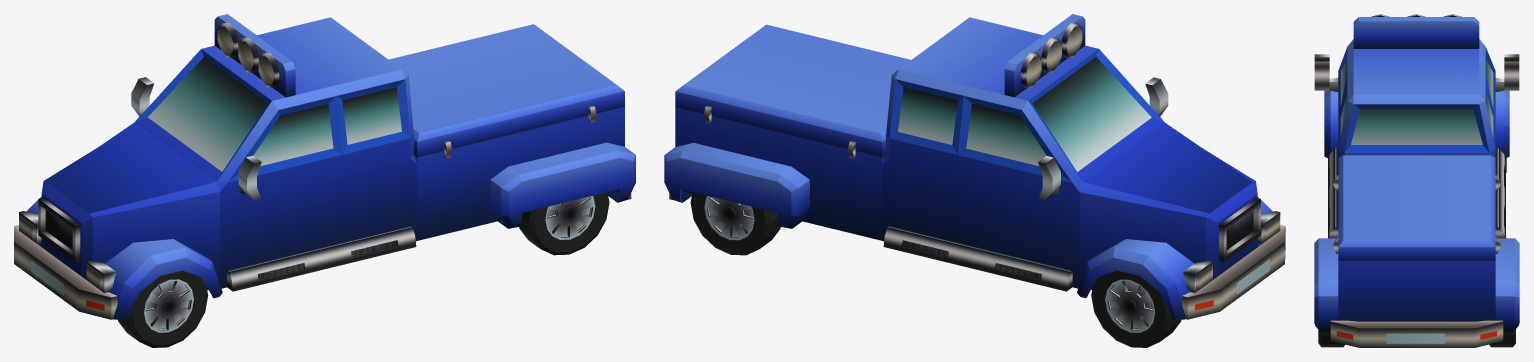
File: Car_11.fbx
3 views of the same model, side by side, from view 1: azimuth 30°, elevation 25°; view 2: azimuth 150°, elevation 25°; view 3: azimuth 270°, elevation 25° (orthographic). The views are drawn at different scales.
Visible parts, largest first — view 1: Car_11, Car_11_wheel_00, Car_11_wheel_01; view 2: Car_11, Car_11_wheel_03, Car_11_wheel_02; view 3: Car_11, Car_11_wheel_02, Car_11_wheel_01.
Part boxes in pixels (box(x1,y1,x2,y2)): Car_11: box(14, 14, 635, 320); Car_11_wheel_00: box(118, 270, 208, 347); Car_11_wheel_01: box(519, 192, 609, 255); Car_11: box(664, 14, 1285, 320); Car_11_wheel_03: box(1091, 270, 1181, 347); Car_11_wheel_02: box(690, 192, 780, 255); Car_11: box(1314, 14, 1519, 347); Car_11_wheel_02: box(1489, 329, 1515, 347); Car_11_wheel_01: box(1318, 330, 1344, 347).
Size of the model in its own units: 159 by 66.39 by 57.86.
